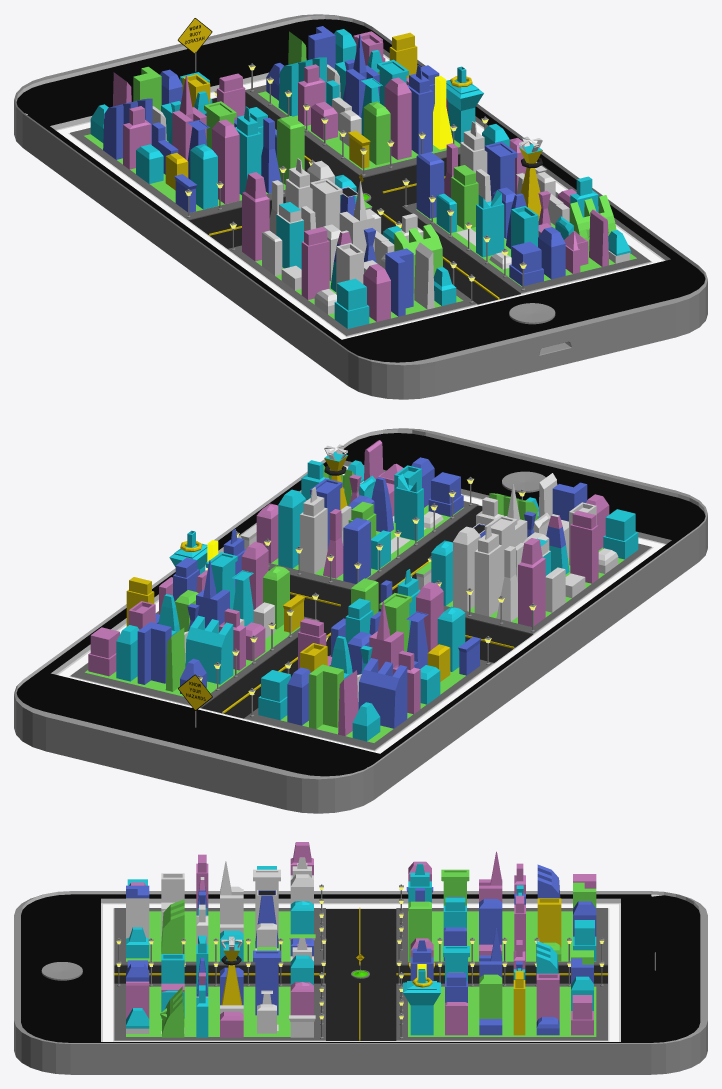
File: iCity.glb
3 views of the same model, one above another, from view 1: azimuth 30°, elevation 25°; view 2: azimuth 150°, elevation 25°; view 3: azimuth 270°, elevation 25° (orthographic). The views are drawn at different scales.
Parts seen in each view (by area): view 1: Cube, Cube.001, Plane.001; view 2: Cube, Cube.001, Plane.001; view 3: Cube, Cube.001.
Part boxes in pixels (box(x1,y1,x2,y2)): Cube: box(14, 14, 707, 399); Cube.001: box(185, 63, 526, 303); Plane.001: box(177, 18, 212, 54); Cube: box(14, 428, 707, 813); Cube.001: box(197, 477, 536, 717); Plane.001: box(178, 674, 212, 710); Cube: box(14, 842, 707, 1074); Cube.001: box(116, 884, 604, 1038).
Bounding box in the file's own units: 11.15 × 3.54 × 21.43.
17 materials, 1 textured.
